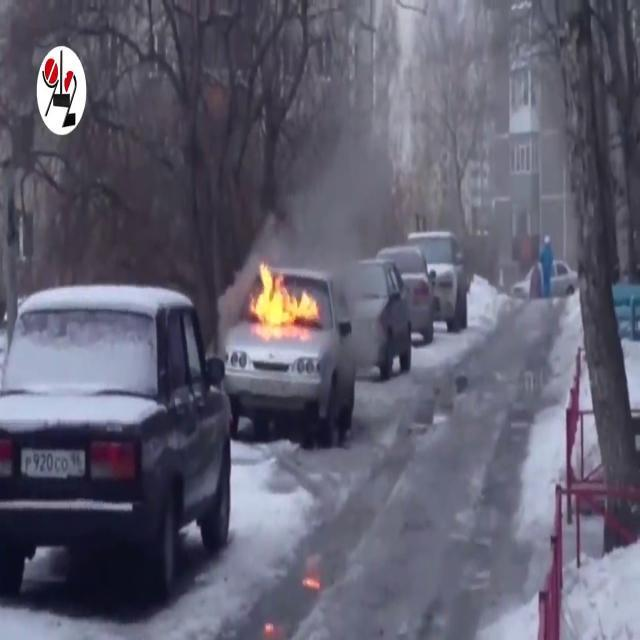Fire: (244, 256, 322, 340)
Smoke: (266, 7, 424, 312)
